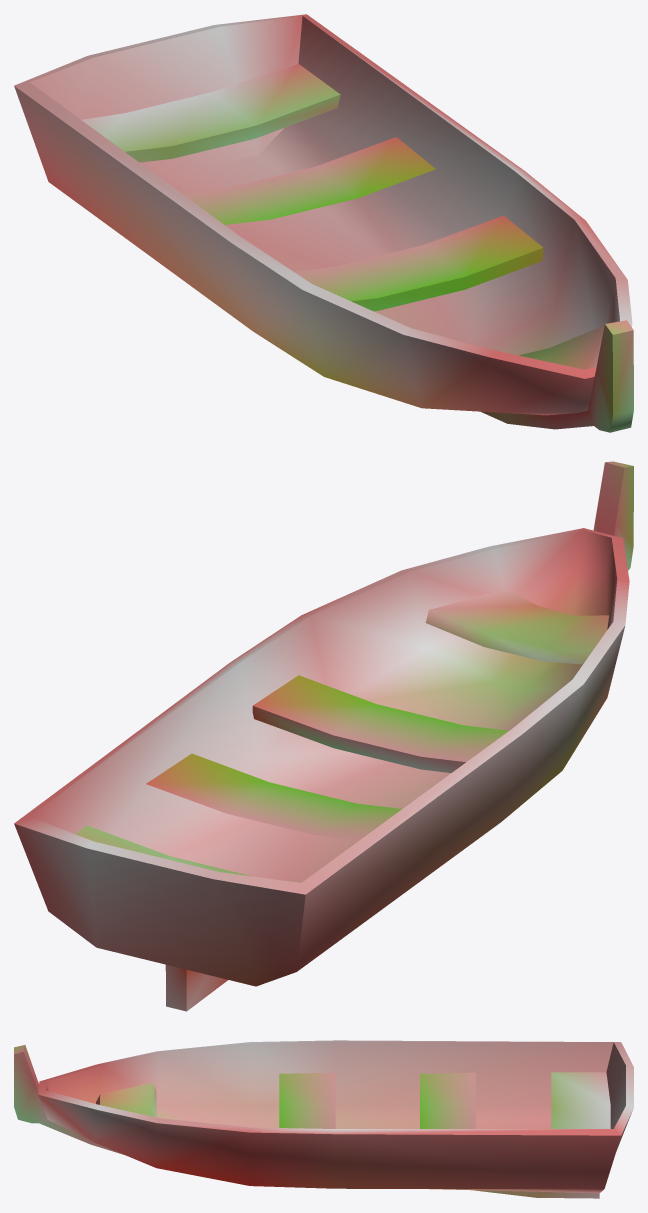
Rendered from boat.fbx.
3 views of the same model, one above another, from view 1: azimuth 30°, elevation 25°; view 2: azimuth 150°, elevation 25°; view 3: azimuth 270°, elevation 25° (orthographic). The views are drawn at different scales.
Visible parts, largest first — view 1: boat; view 2: boat; view 3: boat.
Part boxes in pixels (x1,y1,x2,y2): boat: (14, 14, 633, 432); boat: (14, 461, 633, 1011); boat: (14, 1040, 633, 1198).
Size of the model in its own units: 1.08 by 0.7869 by 3.01.
